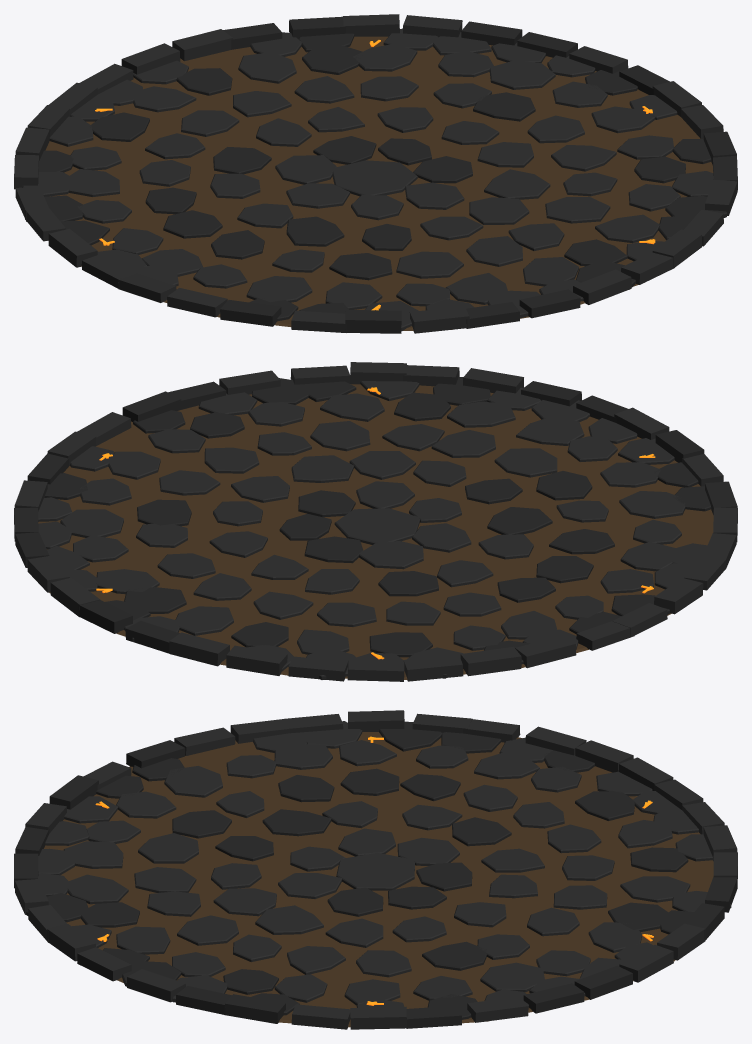
The model's file is cinder-trial-ring.glb.
3 views of the same model, one above another, from view 1: azimuth 30°, elevation 25°; view 2: azimuth 150°, elevation 25°; view 3: azimuth 270°, elevation 25° (orthographic).
Visible parts, largest first — view 1: Body_Stone, Body_Plant, Body_StoneDark; view 2: Body_Stone, Body_Plant, Body_StoneDark; view 3: Body_Stone, Body_Plant, Body_StoneDark.
Part boxes in pixels (bbox=[...]): Body_Stone: bbox=[14, 14, 737, 333]; Body_Plant: bbox=[45, 29, 713, 330]; Body_StoneDark: bbox=[38, 16, 737, 333]; Body_Stone: bbox=[14, 362, 737, 681]; Body_Plant: bbox=[38, 384, 713, 679]; Body_StoneDark: bbox=[14, 377, 737, 663]; Body_Stone: bbox=[15, 710, 737, 1029]; Body_Plant: bbox=[44, 732, 713, 1027]; Body_StoneDark: bbox=[14, 721, 737, 1028].
Size of the model in its own units: 16 by 0.35 by 16.
